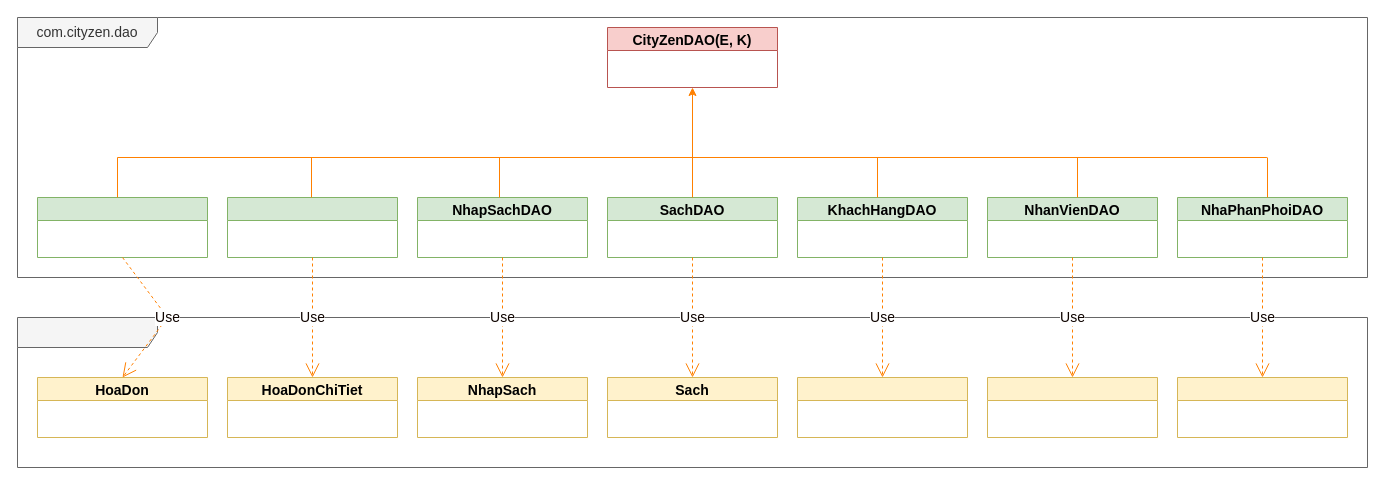
This 1385x485 diagram has some shape labels left out. Here are the shapes that lost their labels. From the top down, the box of each, then its label:
(36, 196, 208, 258): HoaDonDAO
(226, 196, 398, 258): HoaDonChiTietDAO
(16, 316, 1368, 468): com.cityzen.entity
(796, 376, 968, 438): KhachHang
(986, 376, 1158, 438): NhanVien
(1176, 376, 1348, 438): NhaPhanPhoi
